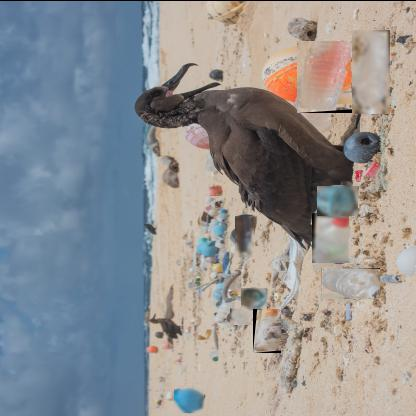bottle: (297, 39, 354, 112), (352, 28, 391, 113), (312, 211, 350, 262), (321, 266, 381, 298), (253, 307, 282, 352), (235, 214, 256, 256), (230, 306, 253, 324)
waste: (317, 184, 359, 215), (174, 387, 205, 412), (241, 286, 268, 308), (210, 184, 221, 195)
